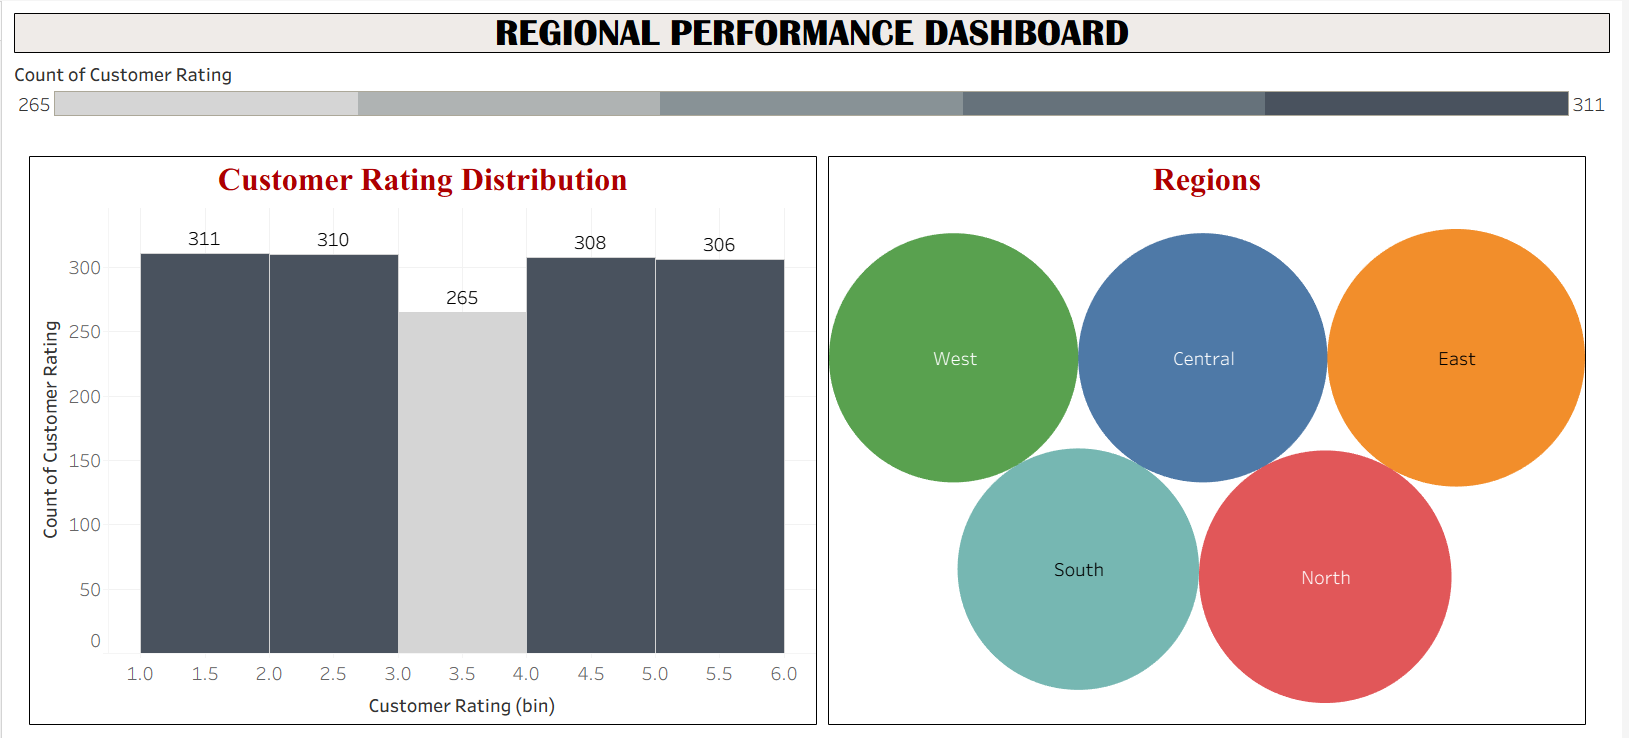

The dashboard page shown, as its layout file describes it:
{"tool":"tableau","page":{"name":"Dashboard 3","canvas":[1000,1000],"units":"permille","ordinal":2},"visuals":[{"type":"title","box":[4.9,11.6,990.1,69.6]},{"type":"legend","title":"Customer_Rating_Analysis","param":"[federated.1p3hfms09x3x5h1clktr105m0rjh].[cnt:Customer_Rating:qk]","box":[4.9,81.2,990.1,117.4]},{"type":"worksheet","title":"Customer_Rating_Analysis","mark":"Automatic","rows":["Customer_Rating"],"cols":["Customer Rating (bin)"],"box":[9.3,207.2,486.4,762.3]},{"type":"worksheet","title":"Regions","mark":"Circle","box":[500,207.2,467.9,762.3]}]}

Visuals, with their boxes on the dashboard's canvas, which has no fixed pixel size, in thousandths of its width and height (x1, y1, x2, y2). These are canvas units, not pixel positions in the 1629x738 screenshot, which may show the page scaled, cropped or inside an application window:
title: (left=5, top=12, right=995, bottom=81)
"Customer_Rating_Analysis" legend: (left=5, top=81, right=995, bottom=199)
"Customer_Rating_Analysis" worksheet: (left=9, top=207, right=496, bottom=970)
"Regions" worksheet (Circle marks): (left=500, top=207, right=968, bottom=970)
